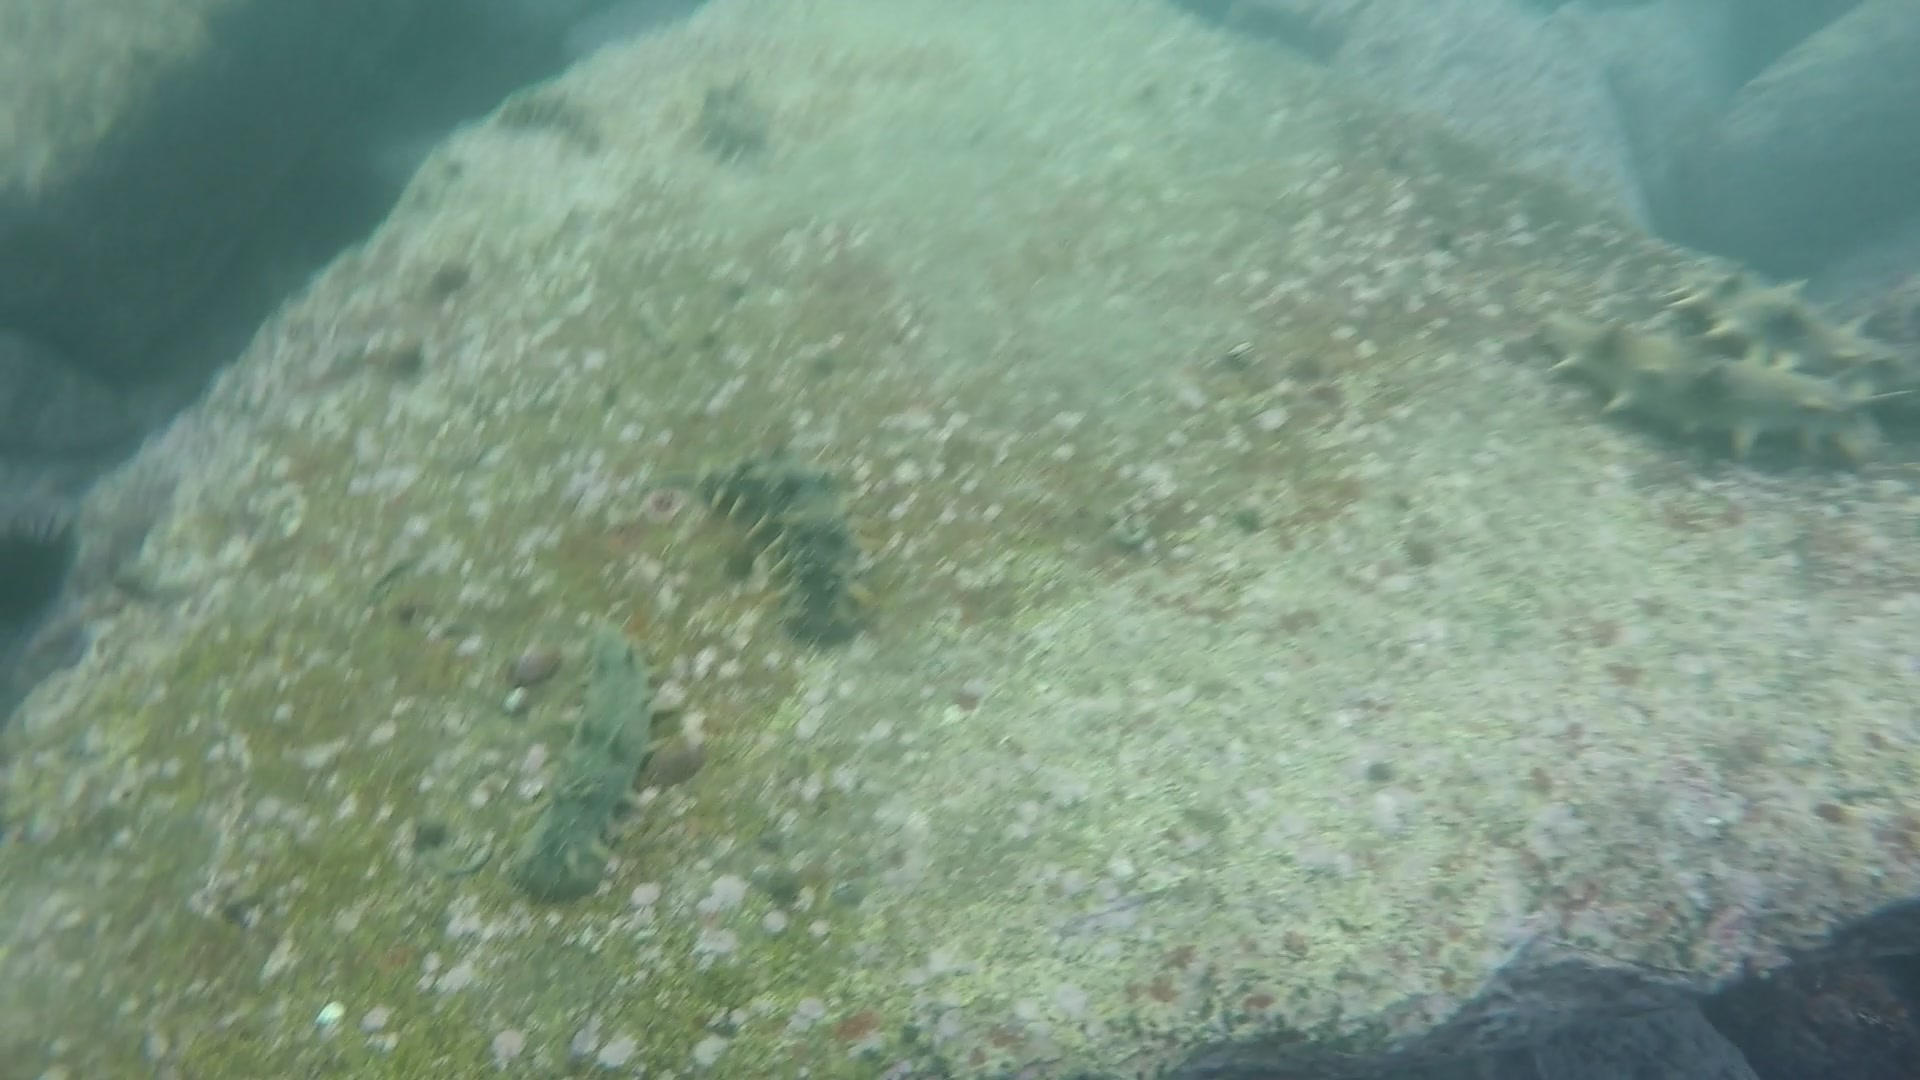echinus: (1, 530, 102, 644)
holothurian: (1528, 305, 1884, 454), (1618, 255, 1920, 400), (694, 464, 885, 640), (529, 618, 647, 894), (679, 76, 777, 154), (506, 95, 616, 158)
